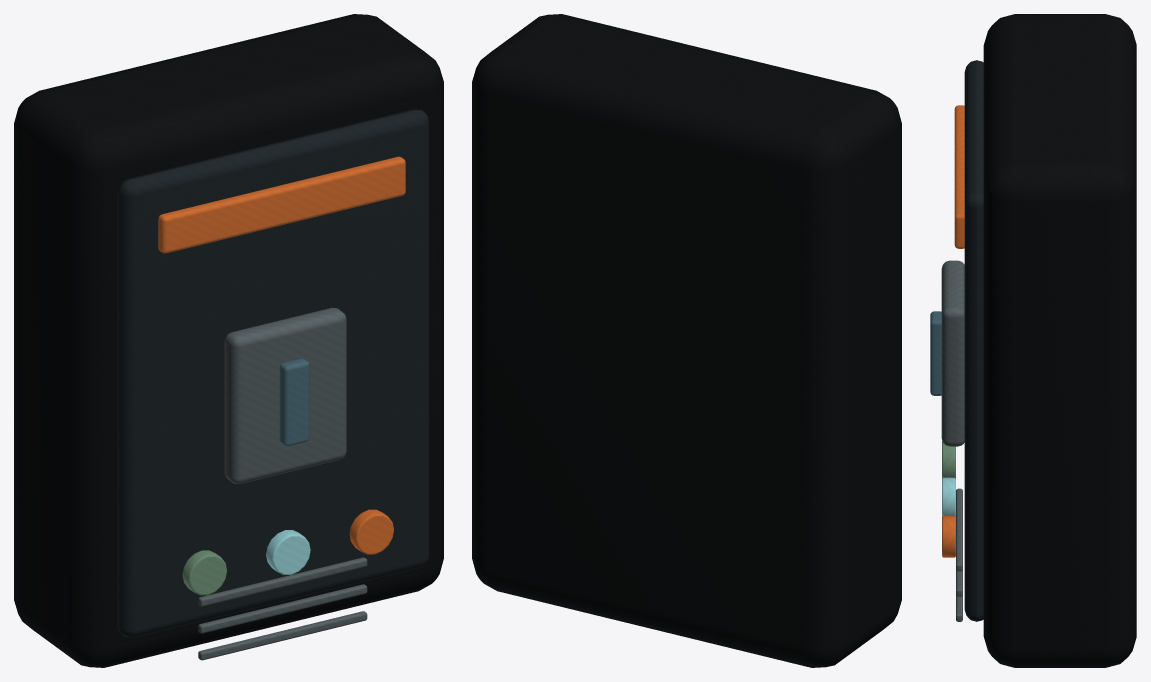
File: PowerJunction.glb
The picture shows the model from 3 angles, left to right: view 1: azimuth 30°, elevation 25°; view 2: azimuth 150°, elevation 25°; view 3: azimuth 270°, elevation 25°; orthographic projection. The views are drawn at different scales.
Visible parts, largest first — view 1: PowerJunction_Mesh; view 2: PowerJunction_Mesh; view 3: PowerJunction_Mesh.
Boxes of the visible parts, x1=… form: PowerJunction_Mesh: x1=14, y1=14, x2=443, y2=667; PowerJunction_Mesh: x1=472, y1=14, x2=901, y2=667; PowerJunction_Mesh: x1=930, y1=14, x2=1136, y2=667.
Size of the model in its own units: 0.58 by 0.8 by 0.297.
Materials: 7 (7 with a texture image).
